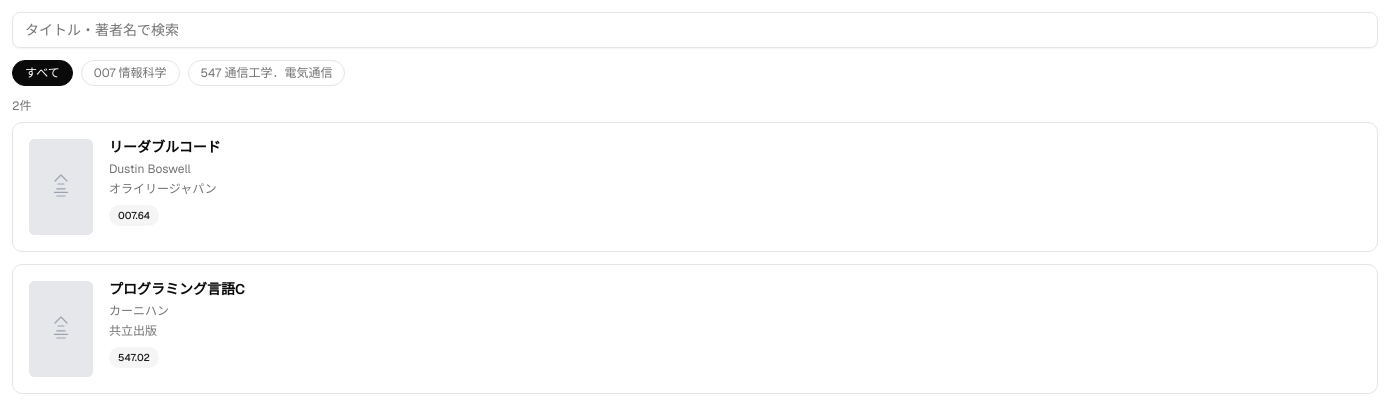
Test case: BookList › NdcFilterで「すべて」を選択するとフィルタが解除される
Click the button "007 情報科学": (130,73) left=81, top=60, right=180, bottom=86
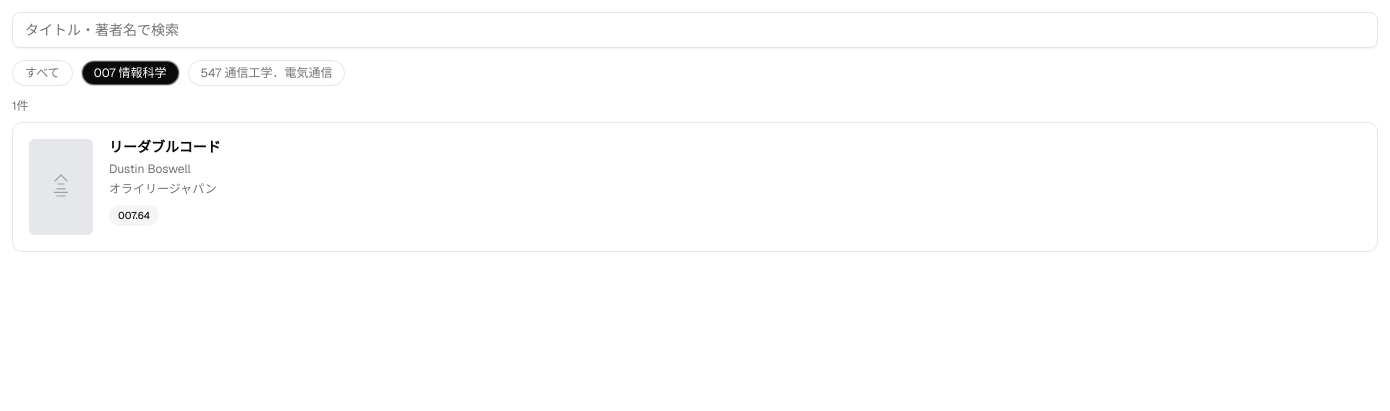
Expected: the text "プログラミング言語C" is gone
Click the button "すべて": (42,73) left=12, top=60, right=73, bottom=86
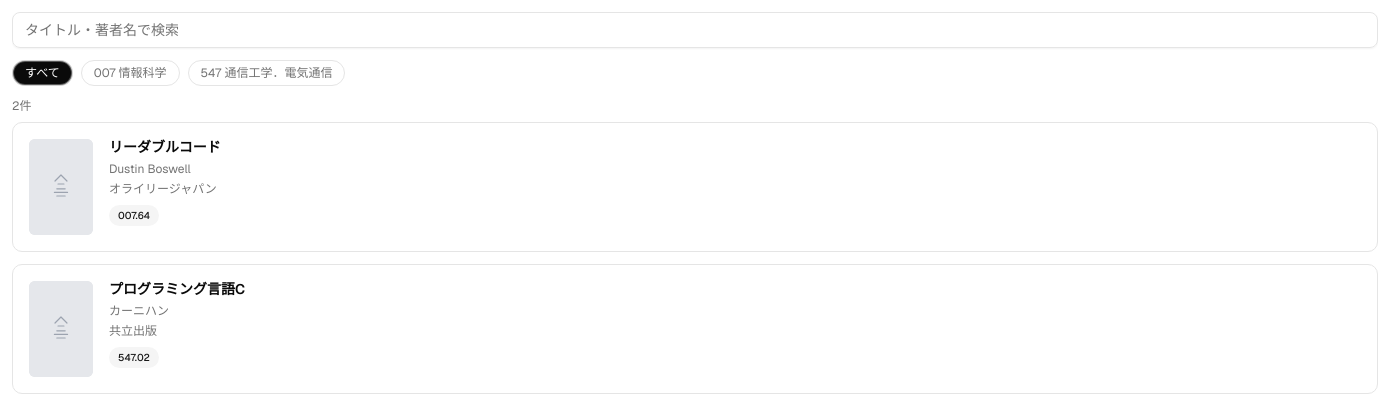
Expected: the text "リーダブルコード" is shown, left=109, top=139, right=221, bottom=156
Expected: the text "プログラミング言語C" is shown, left=109, top=281, right=245, bottom=298
